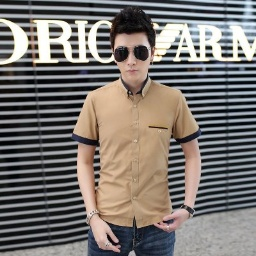face: (108, 6, 158, 85)
